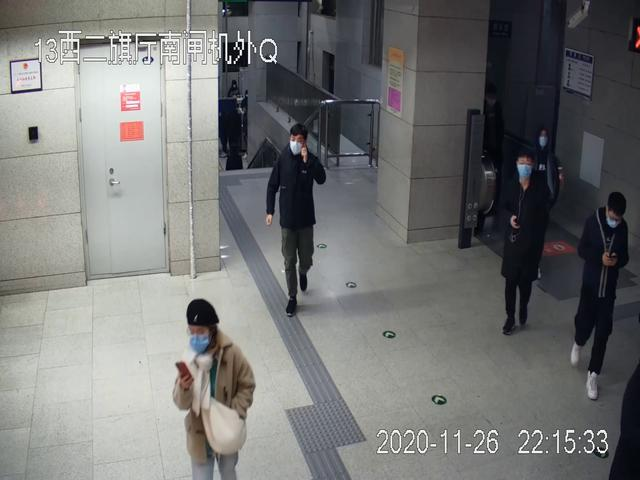person: (172, 298, 255, 480), (264, 123, 329, 319), (571, 190, 630, 400), (501, 154, 547, 335)
